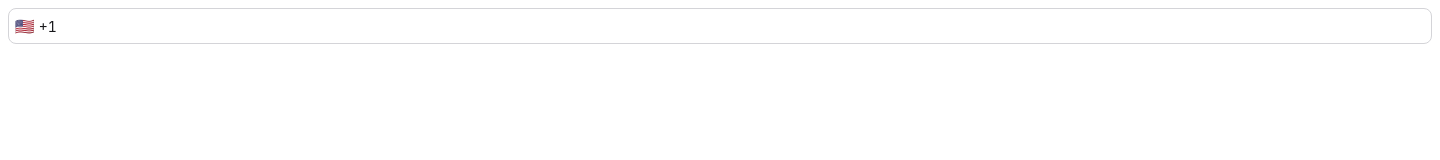
Test: PhoneInput › formats the number as it is typed and stores it in E.164
The image size is (1440, 160).
Step 1. Type "2025550123" into the field named "Phone" → (720, 26), box [8,8,1432,44]
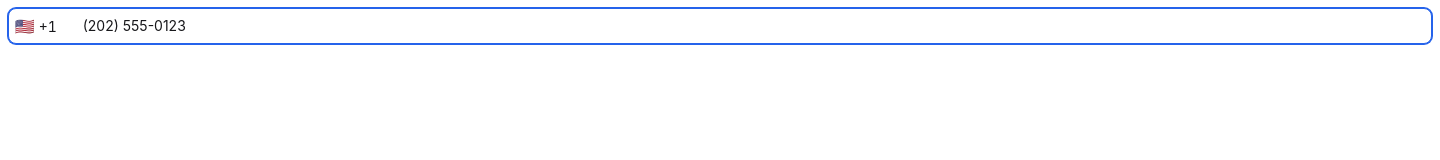
Expected: the field named "Phone" holds "(202) 555-0123", [8,8,1432,44]
